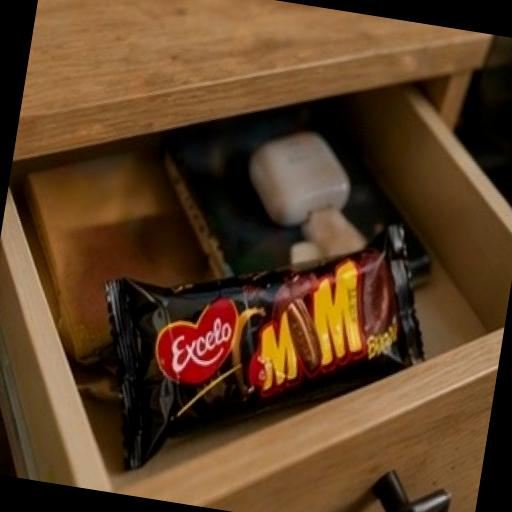MOMO: (60, 158, 456, 475)
